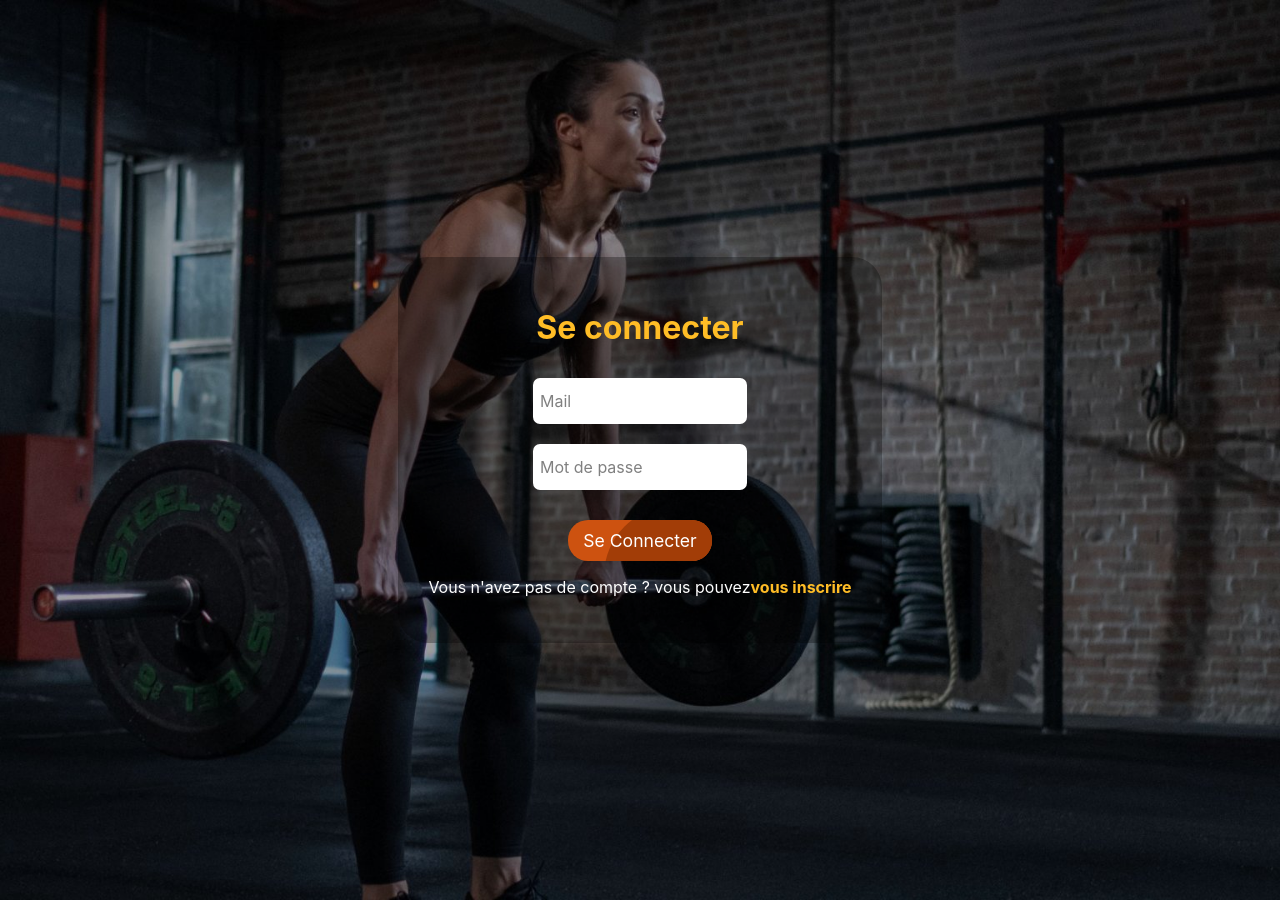
Scenario: Signin Testing › Err with empty mail
Expected: the text "Merci de renseigner une adresse mail" is not shown
Click the button "Se Connecter": {"x": 640, "y": 541} [568, 520, 712, 561]
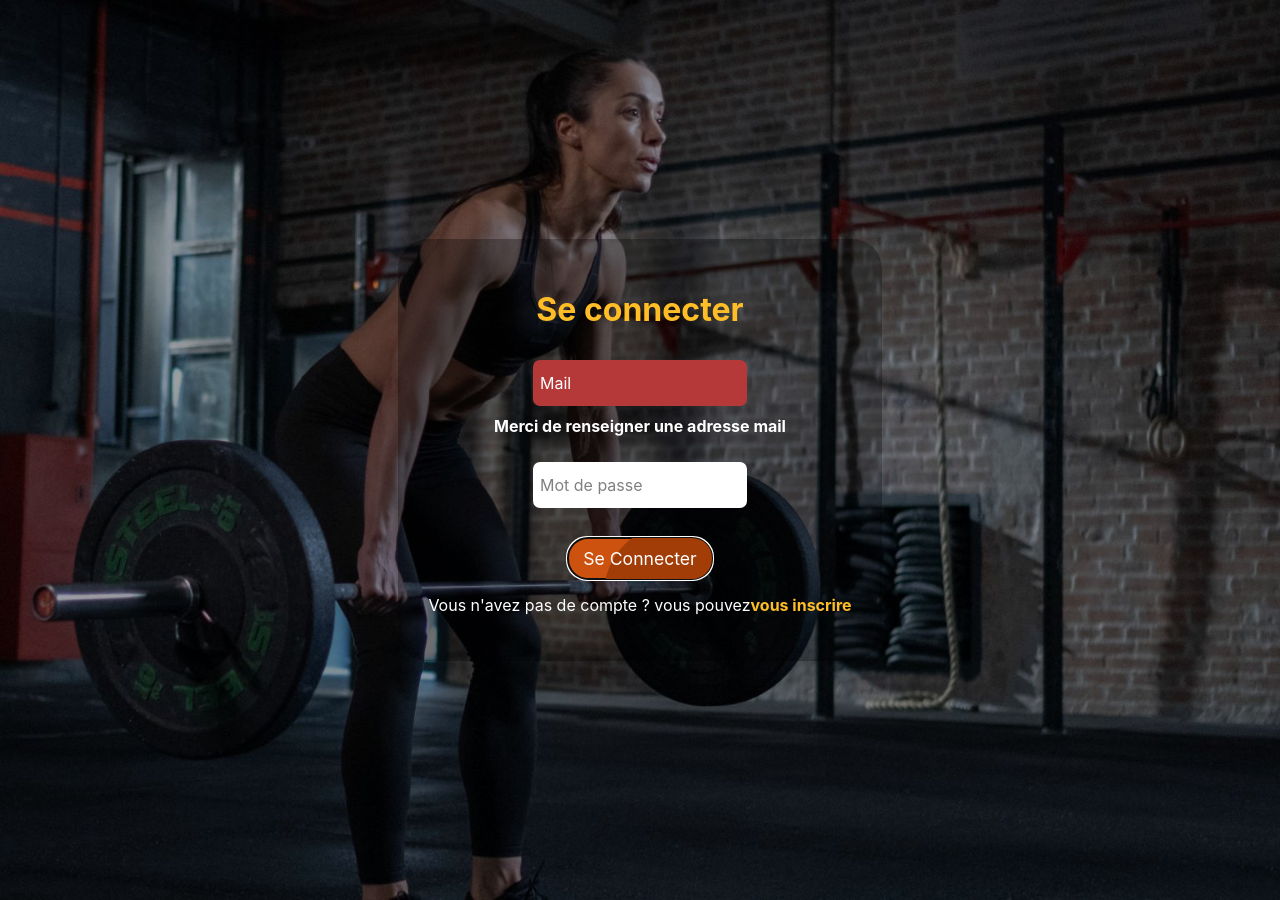
Expected: the text "Merci de renseigner une adresse mail" is shown, [494, 416, 786, 436]
